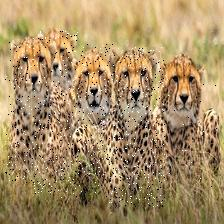Cheetha: (105, 48, 164, 208), (157, 55, 218, 199), (4, 40, 59, 185), (32, 30, 77, 198), (66, 45, 113, 194)
